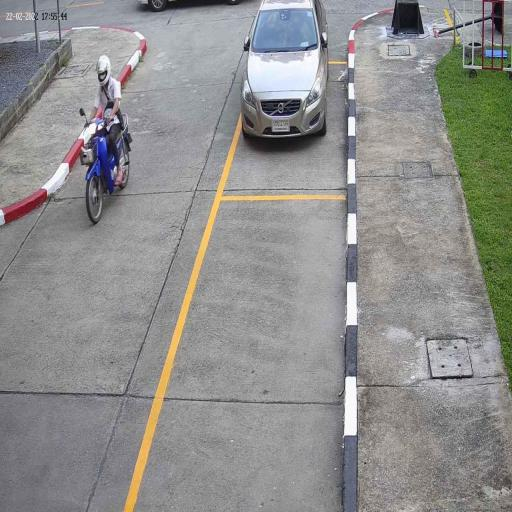car: (239, 0, 330, 144)
motorcycle: (84, 116, 132, 227)
